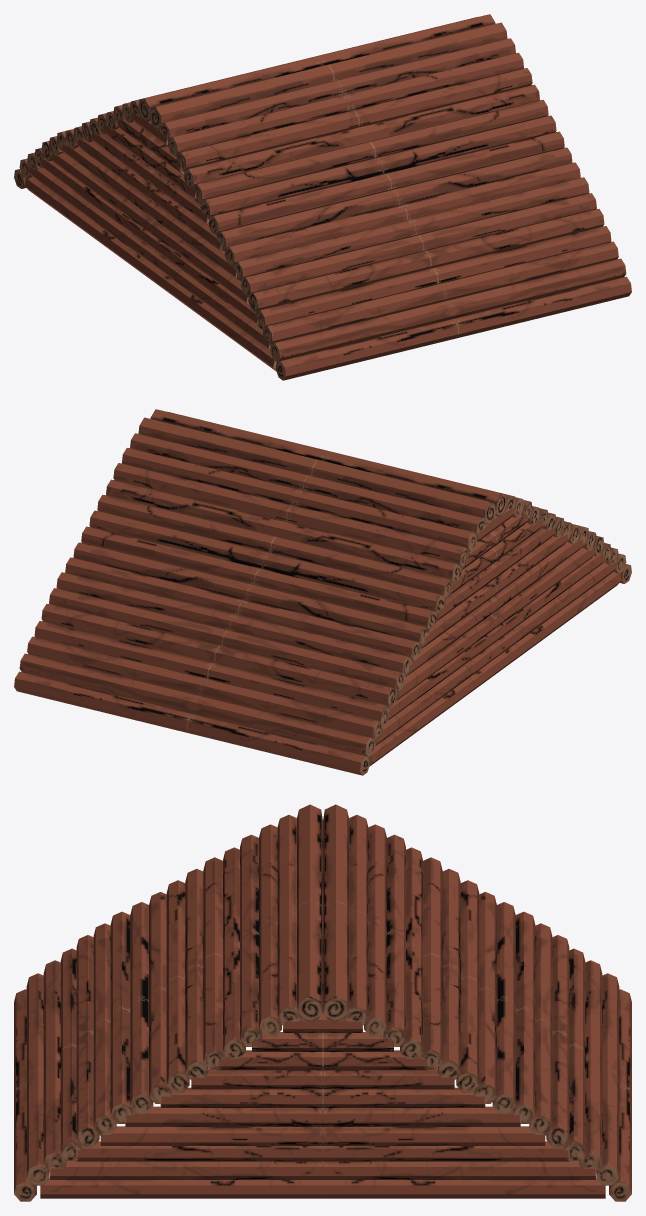
The model's file is Roof.fbx.
The picture shows the model from 3 angles, top to bottom: view 1: azimuth 30°, elevation 25°; view 2: azimuth 150°, elevation 25°; view 3: azimuth 270°, elevation 25°; orthographic projection. The views are drawn at different scales.
Visible parts, largest first — view 1: Roof; view 2: Roof; view 3: Roof.
Part boxes in pixels (box(x1,y1,x2,y2)): Roof: box(14, 14, 631, 380); Roof: box(14, 409, 631, 775); Roof: box(14, 804, 631, 1201).
Size of the model in its own units: 320 by 432 by 158.
1 material, 1 textured.
